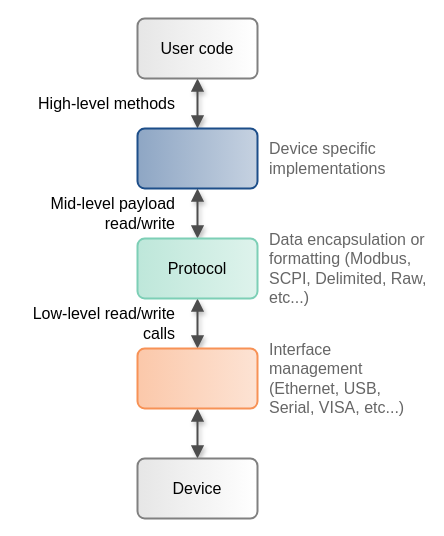
Some shapes in this 444 by 536 pixel diagram are drawn without their labels. Each missing label, with the centre of its shape:
"Adapter" goes at point (197, 378).
"Driver" goes at point (197, 158).
